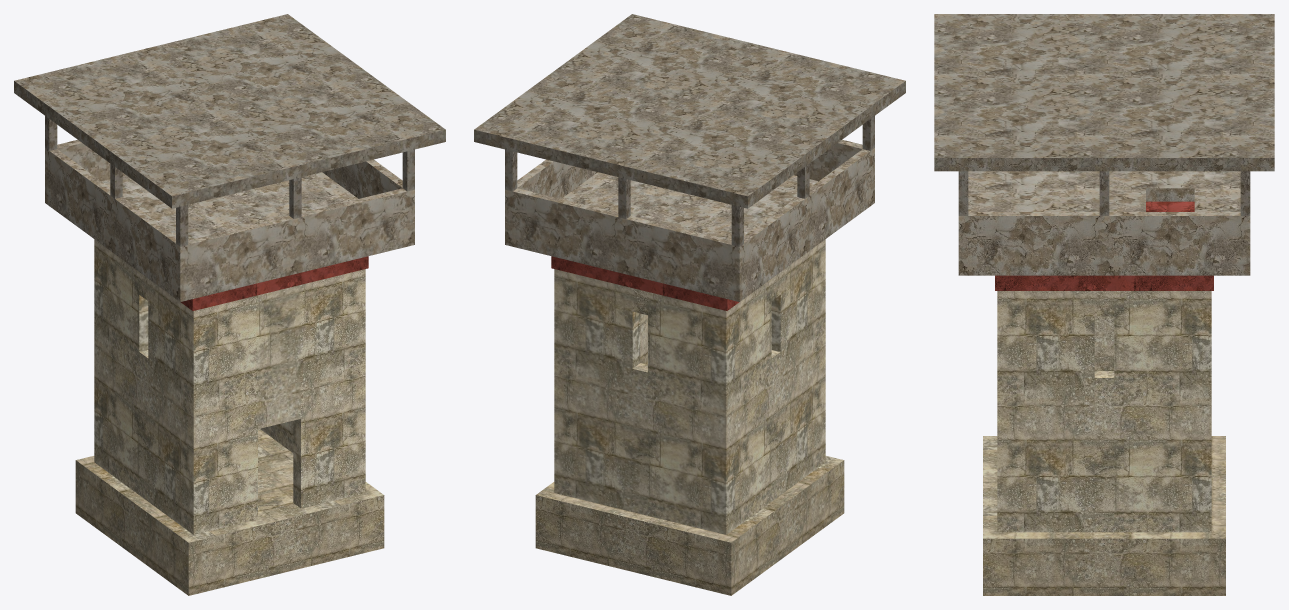
The model's file is bw-post.bw-v1.lod1.glb.
3 renders of one model, left to right at view 1: azimuth 30°, elevation 25°; view 2: azimuth 150°, elevation 25°; view 3: azimuth 270°, elevation 25°, orthographic. The views are drawn at different scales.
Parts seen in each view (by area): view 1: bw-post; view 2: bw-post; view 3: bw-post.
Part boxes in pixels (box(x1,y1,x2,y2)): bw-post: box(14, 14, 445, 595); bw-post: box(474, 14, 905, 595); bw-post: box(934, 14, 1274, 595).
Bounding box in the file's own units: 7 × 10.4 × 7.
2 materials, 2 textured.
